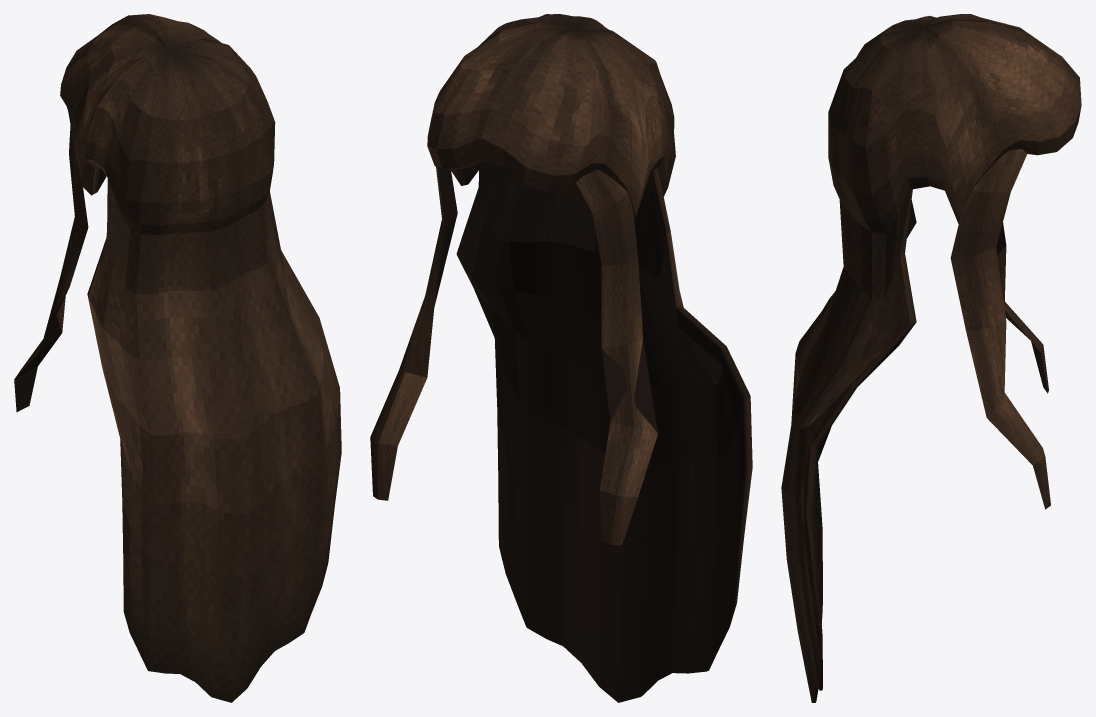
Rendered from CabeloLongoSolto.glb.
3 renders of one model, left to right at view 1: azimuth 30°, elevation 25°; view 2: azimuth 150°, elevation 25°; view 3: azimuth 270°, elevation 25°, orthographic. The views are drawn at different scales.
Parts seen in each view (by area): view 1: CabeloLongoSolto.001; view 2: CabeloLongoSolto.001; view 3: CabeloLongoSolto.001.
Boxes of the visible parts, x1,y1,x2,y2 form: CabeloLongoSolto.001: (14,14,341,702); CabeloLongoSolto.001: (370,14,752,702); CabeloLongoSolto.001: (781,14,1081,702).
Size of the model in its own units: 0.2636 by 0.6882 by 0.2761.
1 material, 1 textured.
